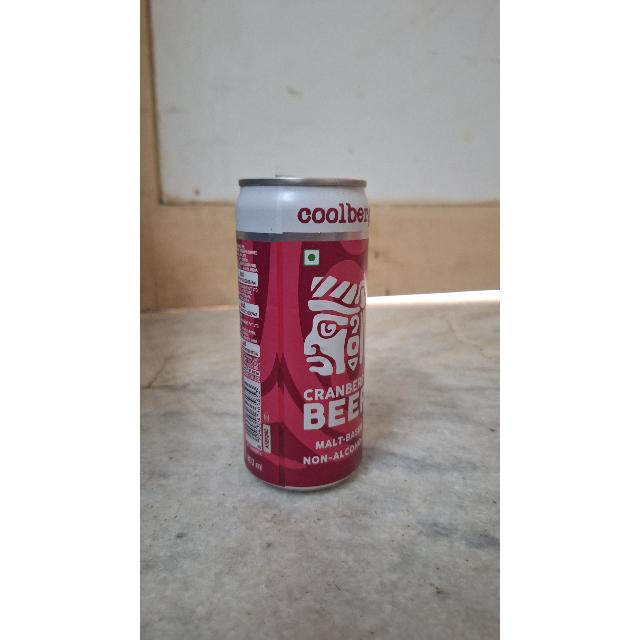Coolberg: (236, 177, 368, 481)
